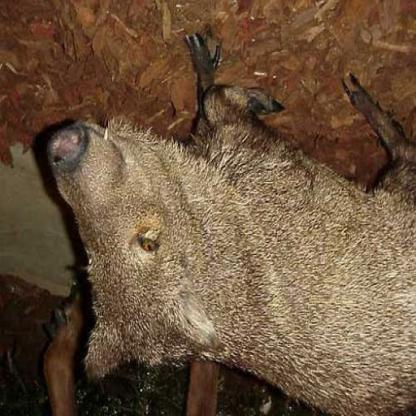boar: (40, 55, 415, 416)
